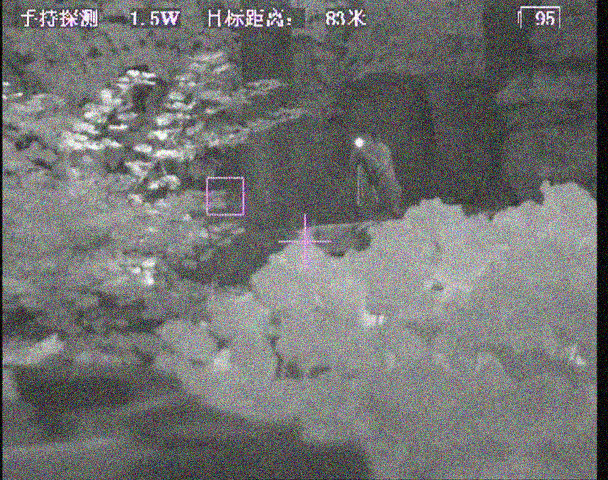my: (353, 136, 365, 149)
